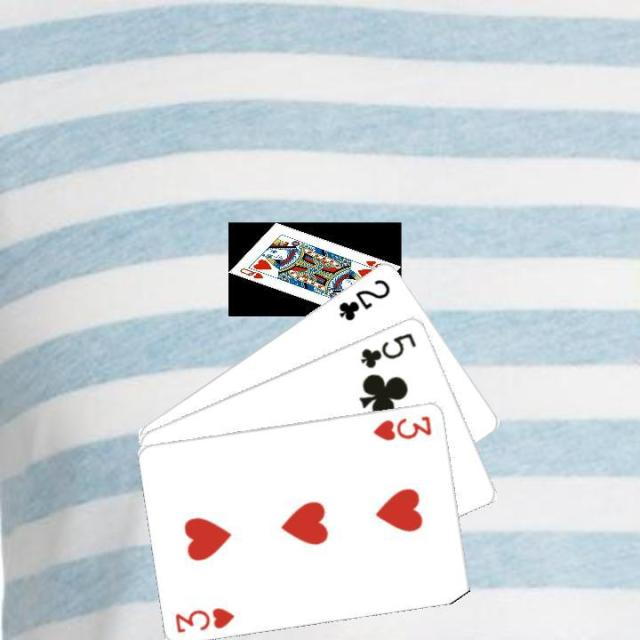2C: (334, 274, 393, 322)
3H: (172, 602, 236, 634), (370, 412, 434, 442)
5C: (356, 328, 418, 370)
